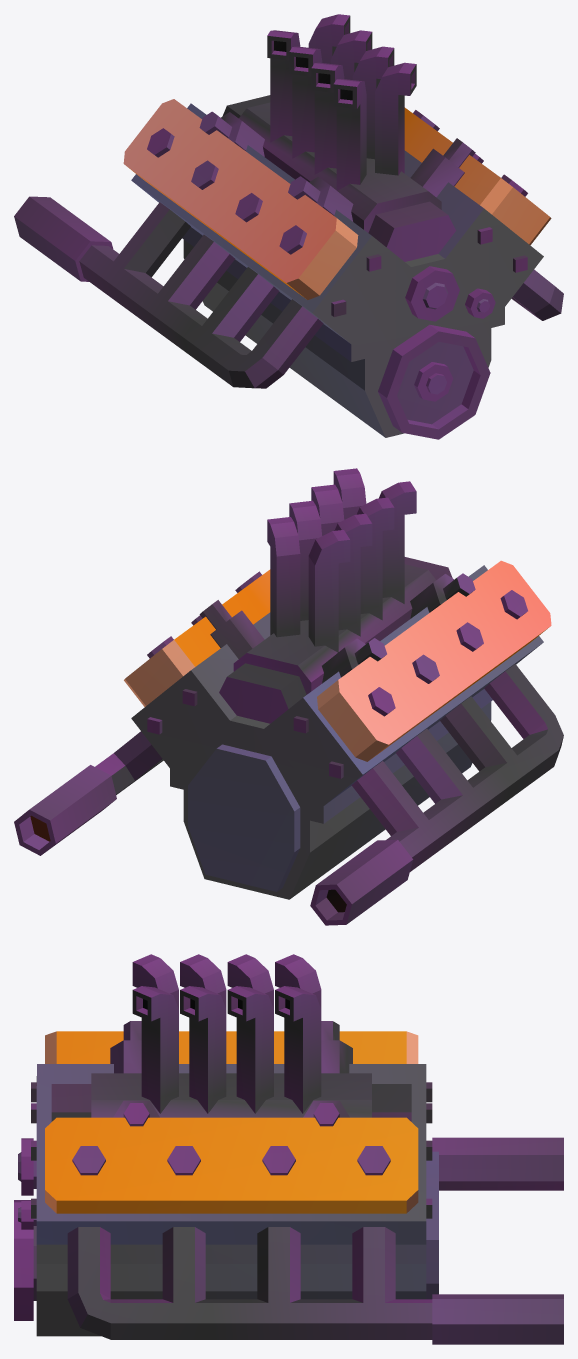
File: EngineLvl3.fbx
3 renders of one model, top to bottom at view 1: azimuth 30°, elevation 25°; view 2: azimuth 150°, elevation 25°; view 3: azimuth 270°, elevation 25°, orthographic. The views are drawn at different scales.
Visible parts, largest first — view 1: engine_lvl3; view 2: engine_lvl3; view 3: engine_lvl3.
Boxes of the visible parts, left/top/right/bottom form: engine_lvl3: left=14, top=14, right=563, bottom=439; engine_lvl3: left=14, top=468, right=563, bottom=925; engine_lvl3: left=14, top=954, right=563, bottom=1344.
Size of the model in its own units: 1.59 by 1.43 by 2.08.
